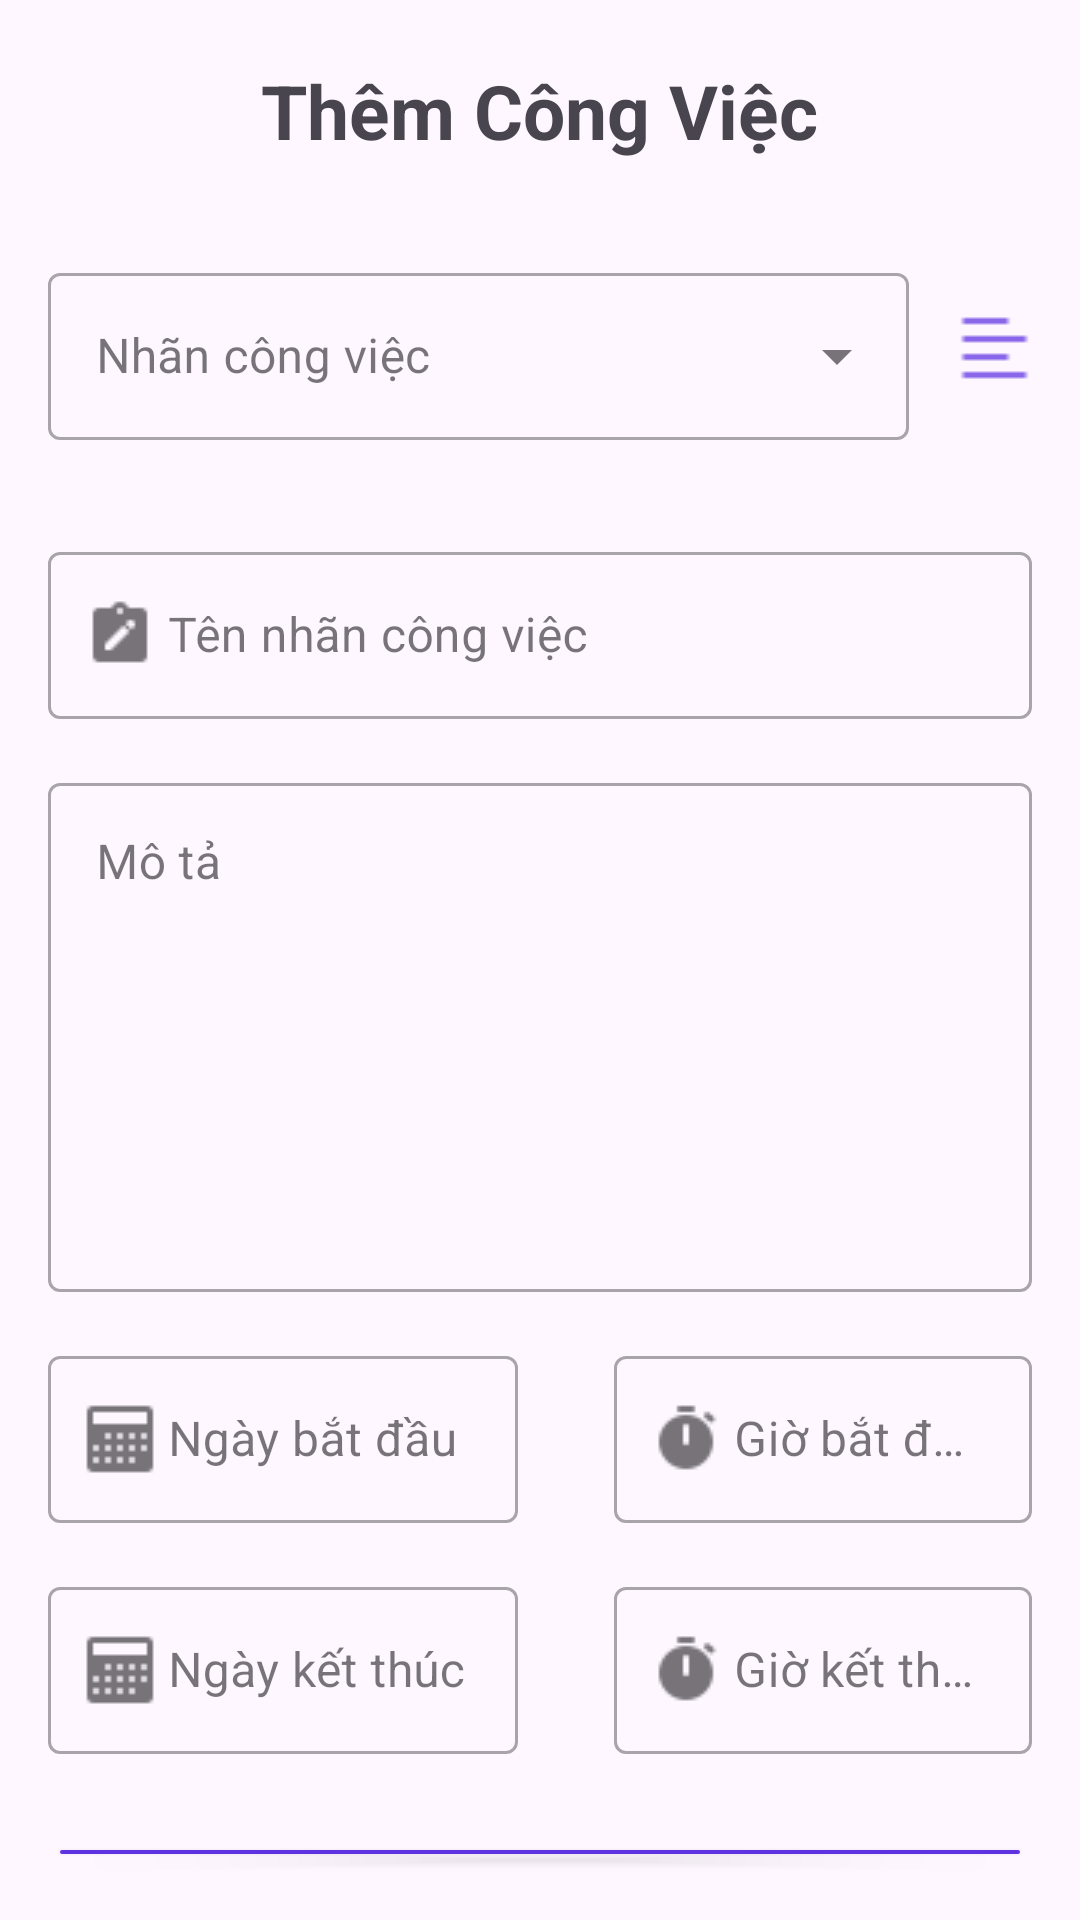

Named icons in this screenshot (1080px x 1920px) and their bounding boxes, Rect(x1, y1, x2, y2):
creatask option: Rect(961, 317, 1028, 379)
